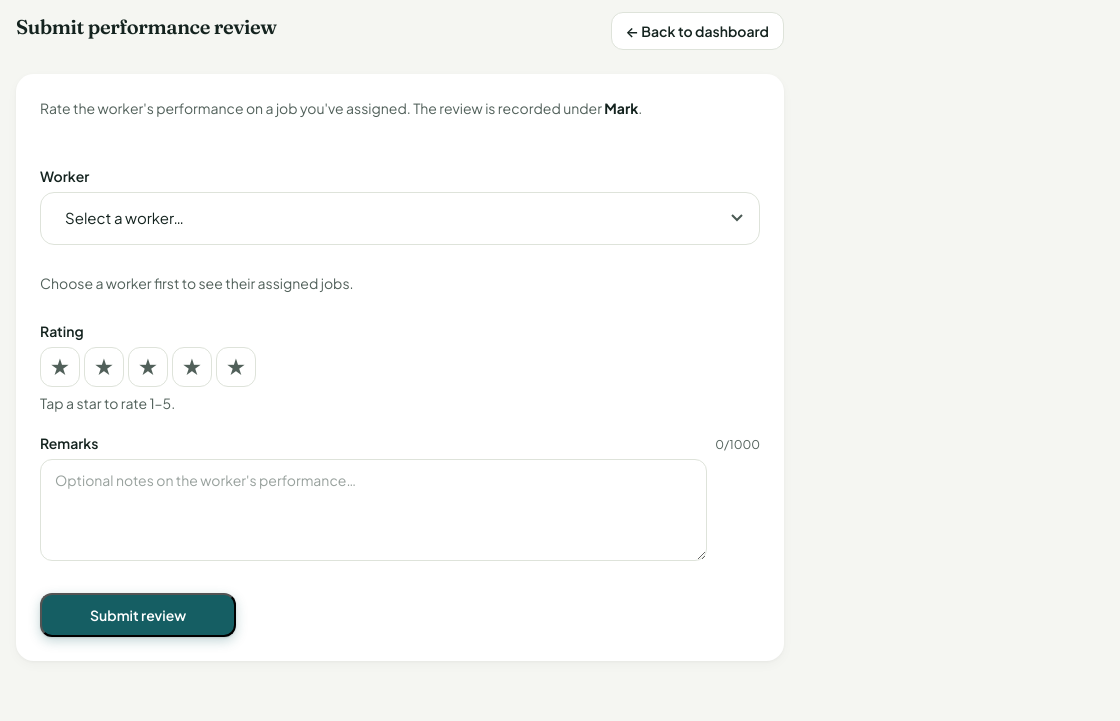
Test: SubmitReview › posts the review with the selected rating and account name, then resets the form
Select "Ana (ana@example.com)" in the dropdown labelled "Worker" at (400, 218), box top-left (40, 192), bottom-right (760, 244)
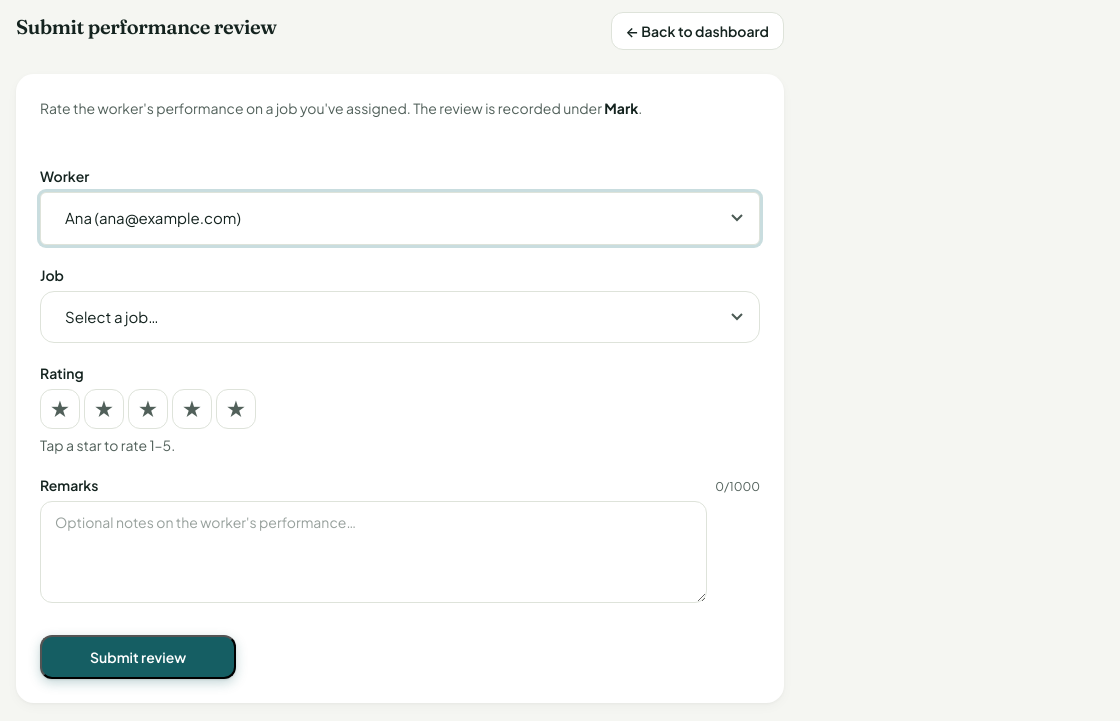
Select "Cook · ₹600/day" in the dropdown labelled "Job" at (400, 317), box top-left (40, 290), bottom-right (760, 343)
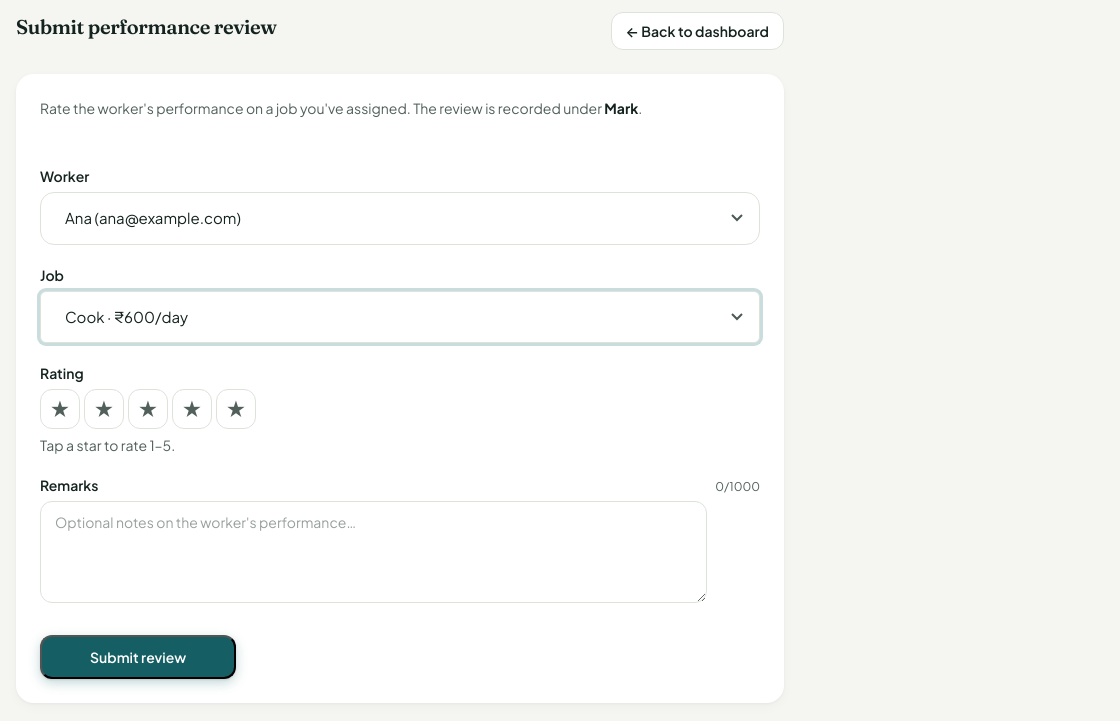
Click the radio button named "Rate 4 out of 5".
click(192, 409)  # box top-left (172, 389), bottom-right (212, 429)
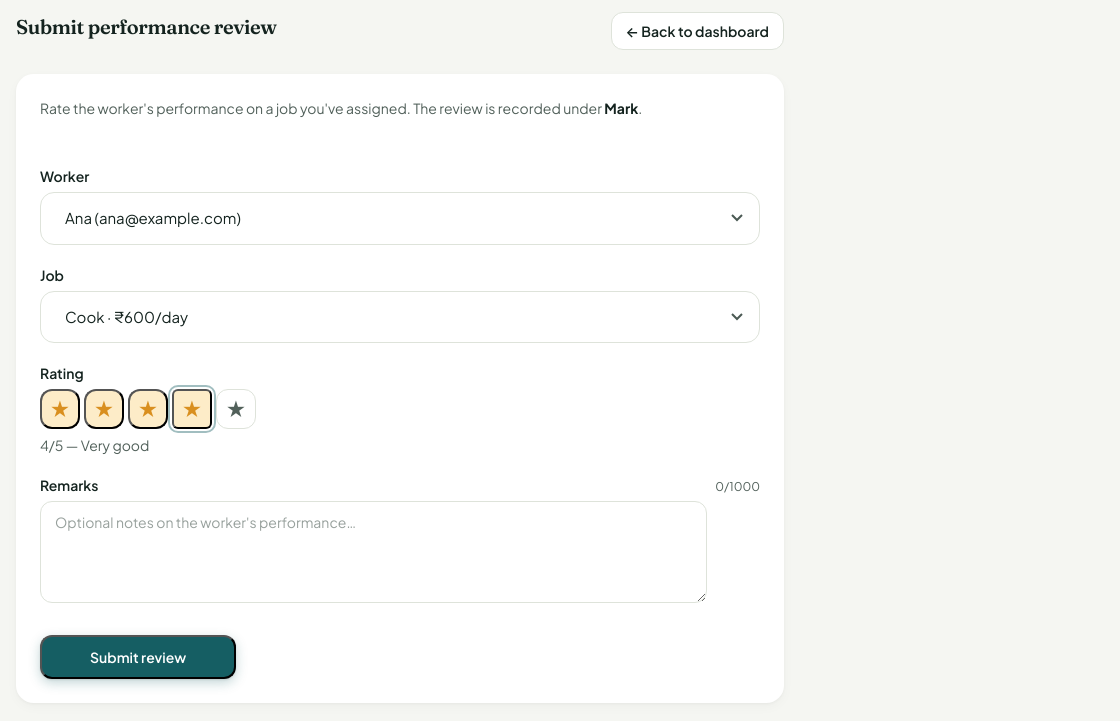
Type "Great with the kids" into the text box labelled "Remarks".
click(374, 552); type("Great with the kids")  # box top-left (40, 501), bottom-right (707, 603)
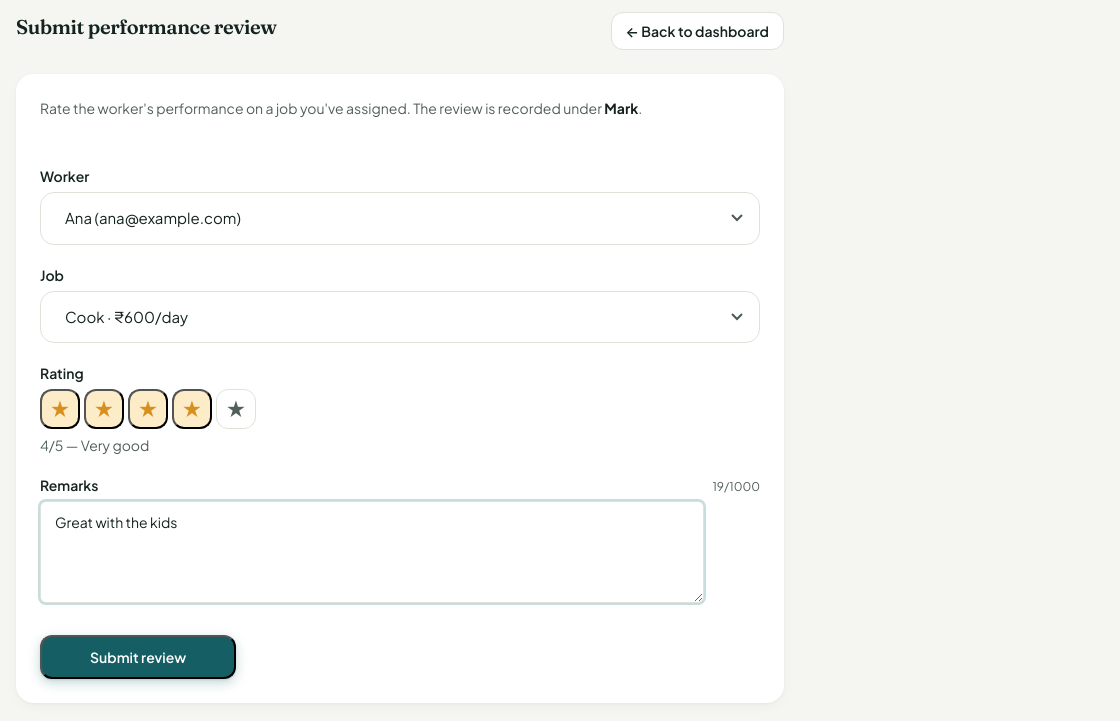
Click the button "Submit review".
click(138, 657)  # box top-left (40, 635), bottom-right (236, 679)
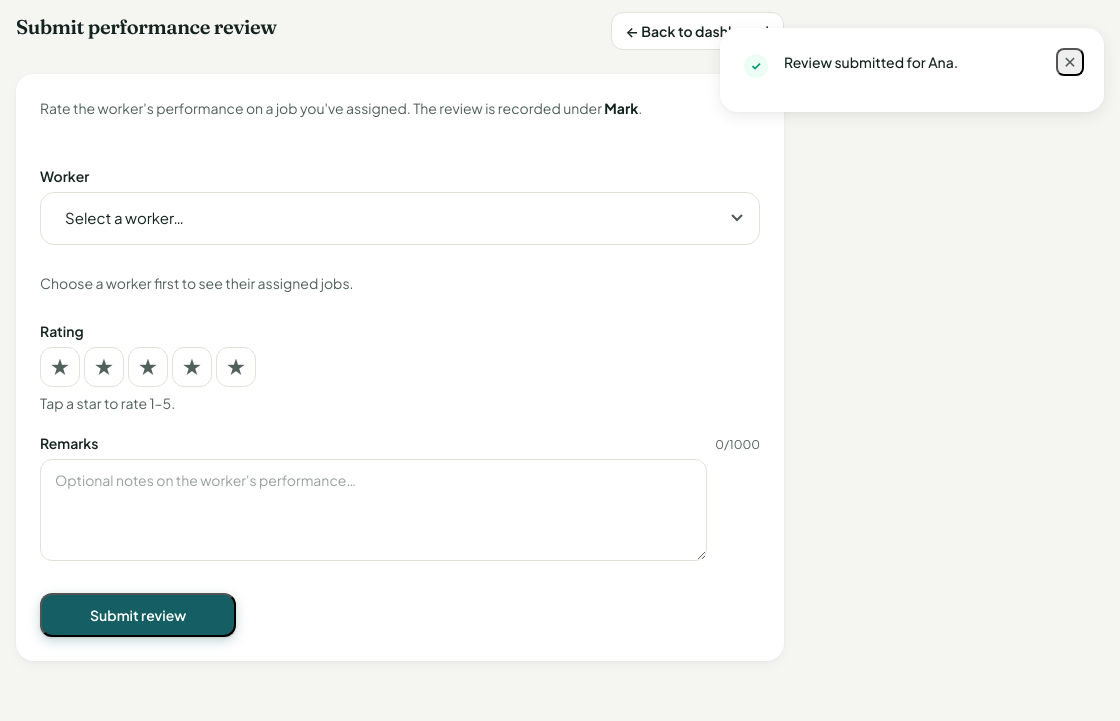
expect the text "Review submitted for Ana." is shown: met, box top-left (784, 53), bottom-right (958, 71)
expect the text "Choose a worker first to see their assigned jobs." is shown: met, box top-left (40, 274), bottom-right (354, 292)
expect the text box labelled "Remarks" is empty: met, box top-left (40, 458), bottom-right (707, 560)
